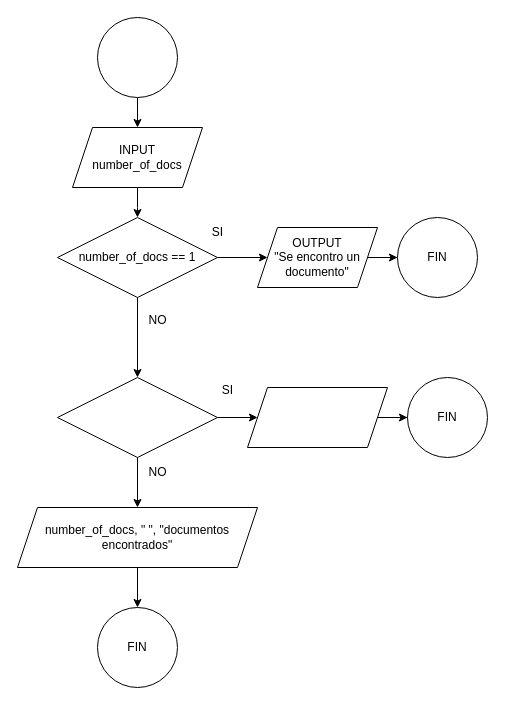
The diagram is 505 pixels wide and 705 high, and some of its shapes have lost their labels. Here are the shapes that lost their labels. From the top down, the centre of each, then its label:
point (137, 57): INICIO
point (137, 417): number_of_docs <= 0
point (317, 417): OUTPUT "No se encontraron documentos"
